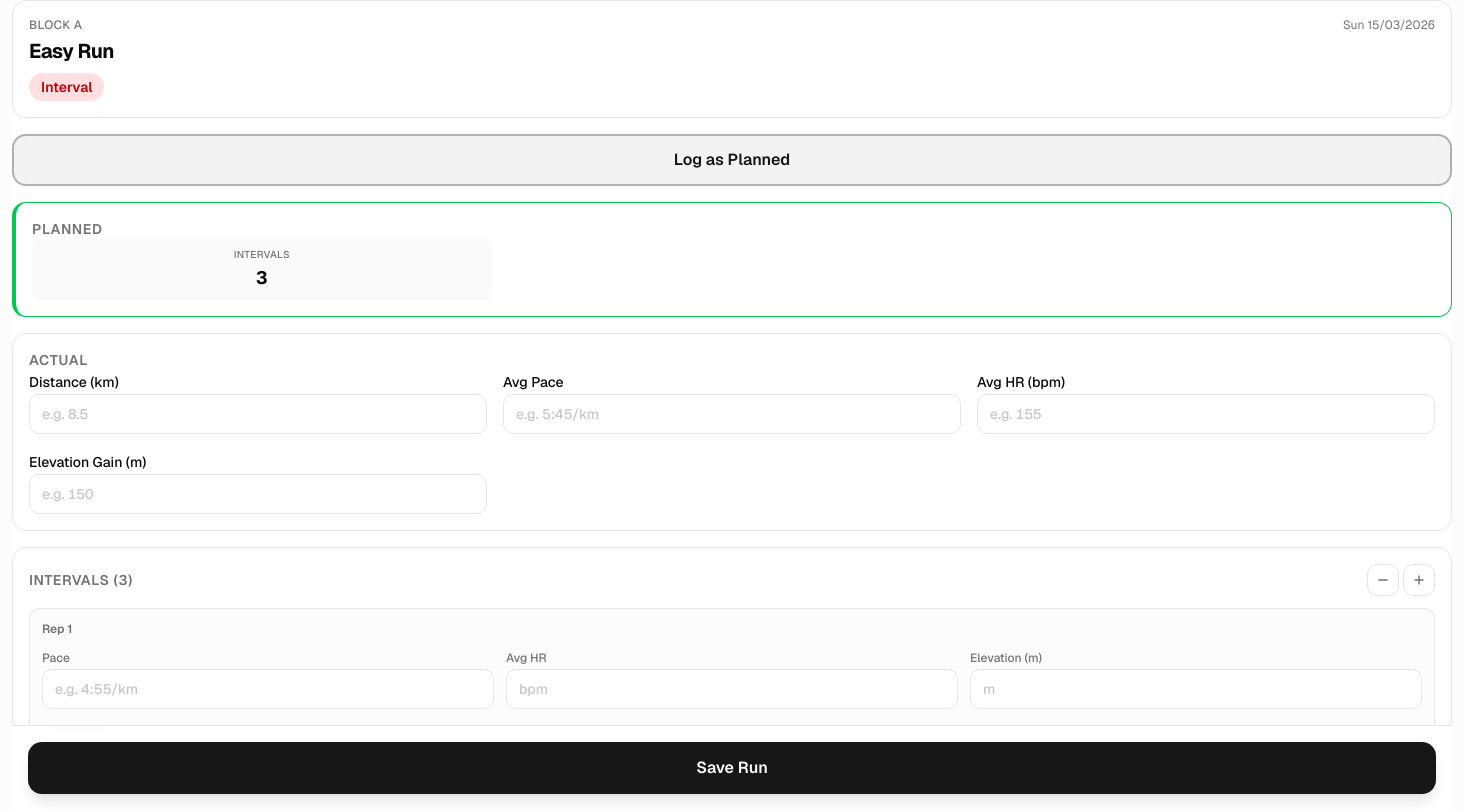
it: RunningLoggingForm — T180 characterization (elevation gain) › removing an interval rep removes from the end
# Fill rep 1 with data
Type "4:00" into the field with test id "interval-pace-1" at (268, 689), box [42,669,494,709]
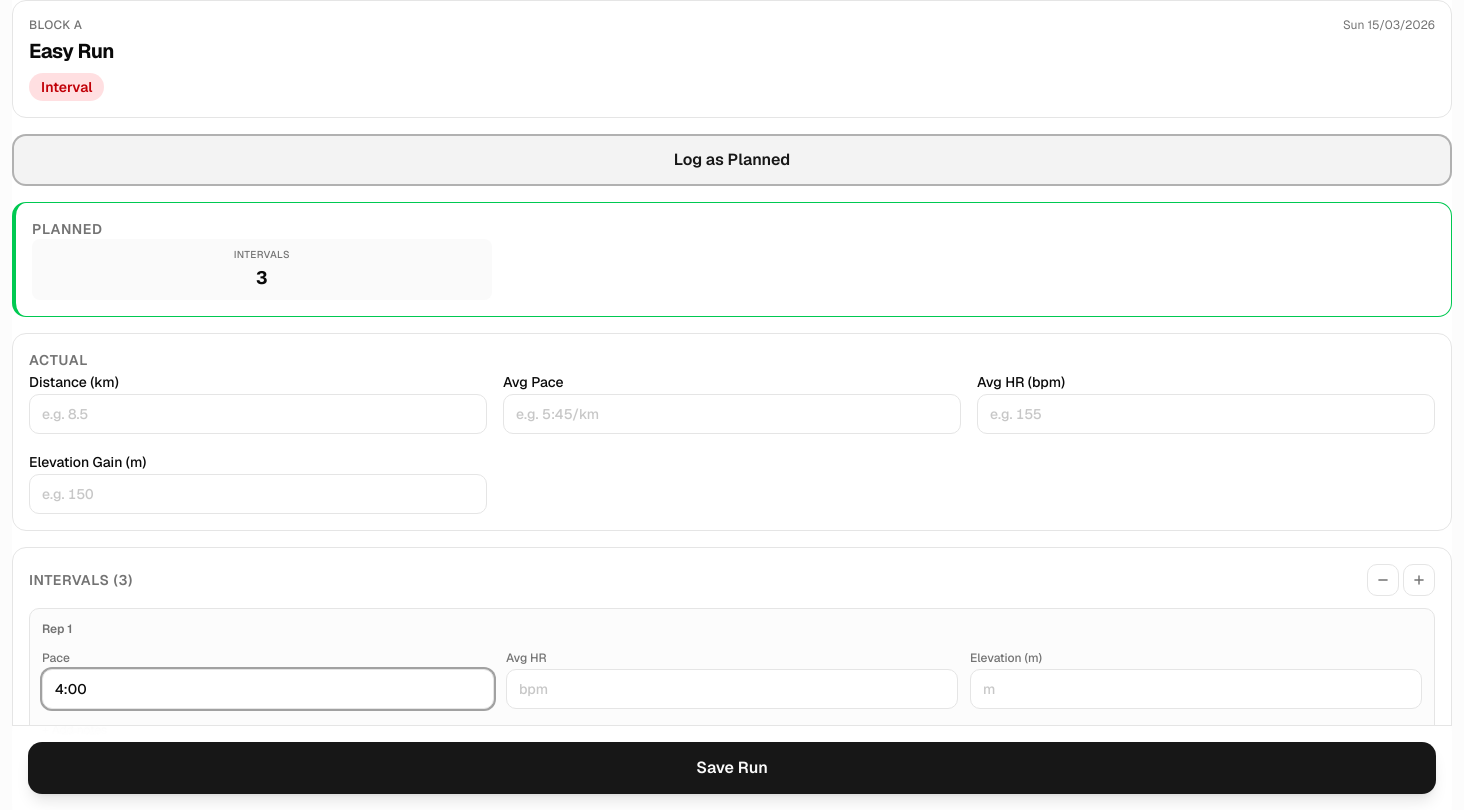
# Remove last rep
Click the button named "Remove interval" at (1383, 580), box [1367,564,1399,596]
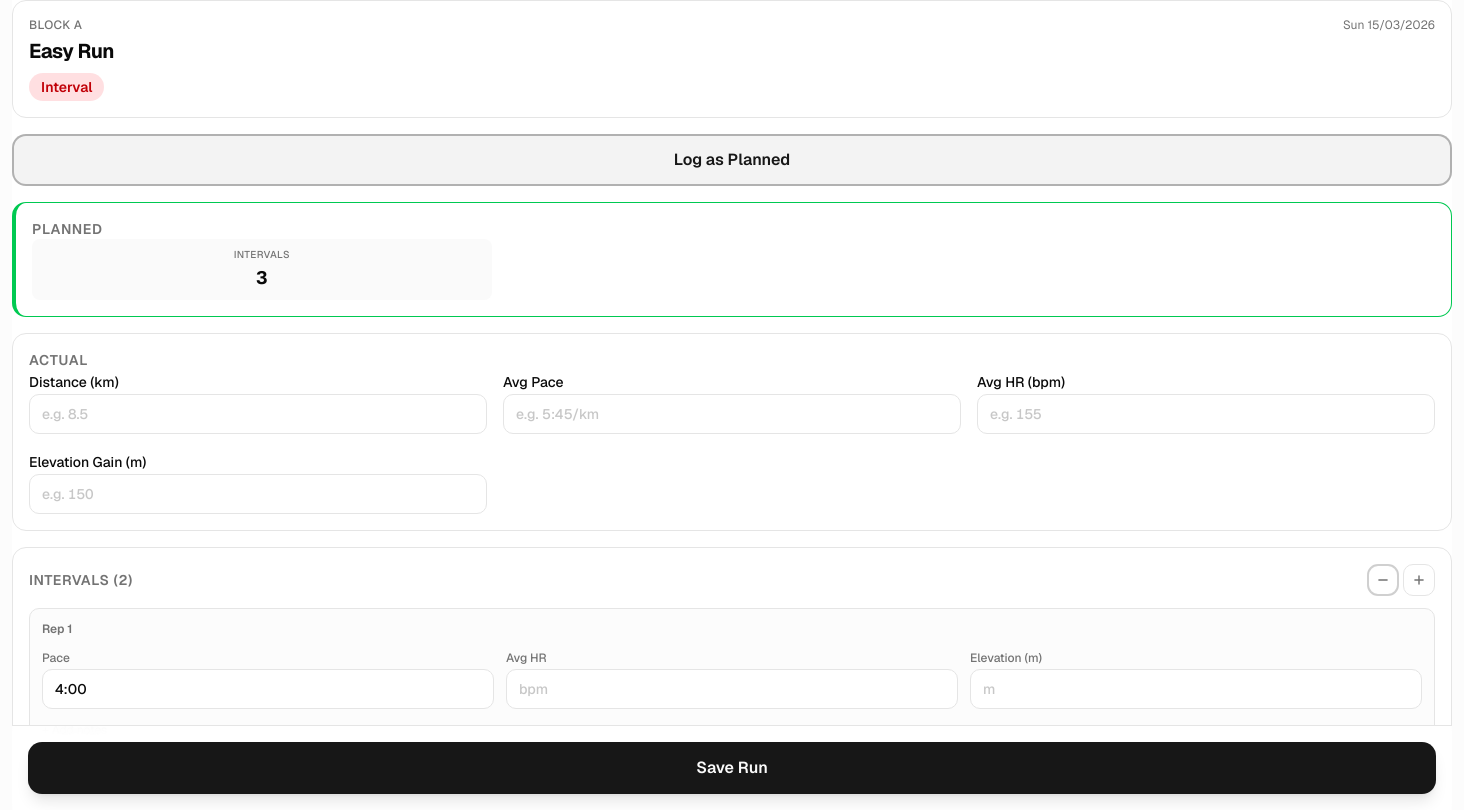
Result: the heading "Intervals (2)" is shown at [29,570,133,590]
